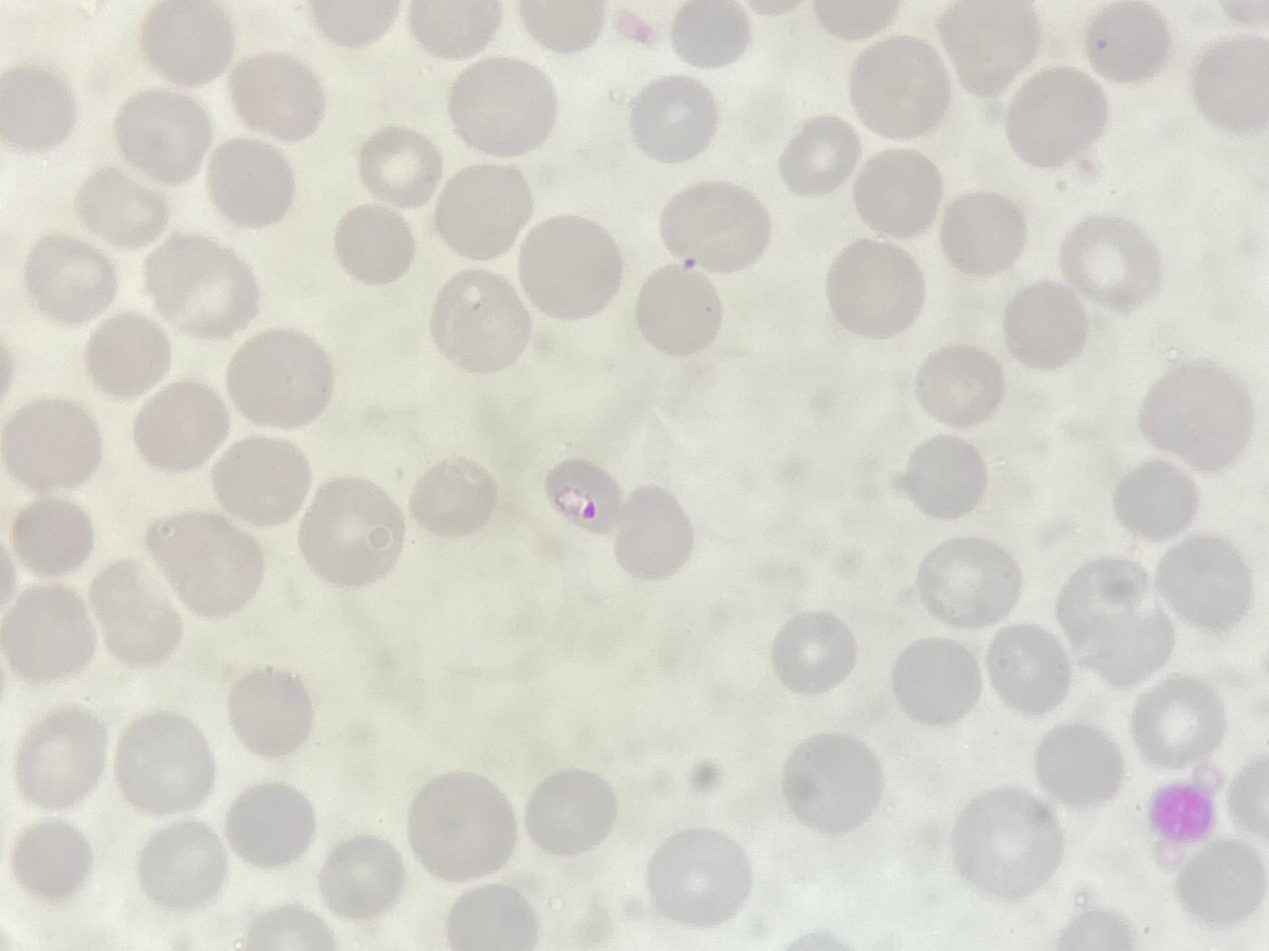Infected: (544, 459, 622, 535)
Uninfected: (1056, 556, 1170, 679), (143, 509, 266, 619), (1135, 360, 1252, 472), (143, 231, 260, 339), (948, 788, 1061, 897), (406, 772, 518, 880), (296, 478, 404, 588), (447, 57, 557, 157), (518, 214, 622, 316), (225, 328, 332, 427), (430, 269, 533, 371), (114, 712, 217, 813), (849, 38, 952, 139), (645, 828, 751, 926), (660, 178, 771, 271), (780, 732, 882, 833), (431, 161, 535, 260), (1005, 68, 1107, 167), (1059, 213, 1162, 311), (824, 239, 925, 338), (1151, 531, 1250, 631), (88, 560, 183, 664), (14, 708, 110, 810), (2, 396, 104, 492), (1, 583, 98, 683), (131, 379, 233, 472), (114, 88, 214, 182), (915, 535, 1017, 627), (211, 434, 314, 524), (935, 1, 1036, 92), (204, 135, 300, 227), (1132, 675, 1228, 765), (24, 235, 120, 325), (228, 52, 327, 139), (634, 263, 726, 356), (851, 149, 946, 239), (223, 780, 319, 868), (523, 769, 617, 858), (889, 636, 983, 724), (136, 819, 228, 908), (612, 483, 692, 584), (84, 311, 175, 399), (226, 667, 313, 759), (899, 434, 993, 519), (627, 75, 718, 162), (77, 164, 171, 247), (1033, 720, 1122, 807), (913, 343, 1006, 426), (141, 1, 237, 81), (9, 492, 100, 576), (1174, 839, 1264, 923), (939, 190, 1027, 275), (985, 623, 1069, 712), (1003, 280, 1089, 366), (1190, 36, 1266, 131), (409, 458, 497, 539), (11, 815, 95, 899), (318, 837, 404, 919), (1112, 458, 1199, 539), (773, 611, 856, 694), (1083, 2, 1169, 82), (334, 203, 418, 284), (358, 126, 445, 203), (0, 64, 77, 150), (779, 117, 860, 192), (445, 883, 535, 948), (671, 1, 751, 67), (409, 1, 498, 58), (521, 1, 605, 54), (309, 1, 397, 49), (241, 903, 333, 948), (1226, 751, 1269, 840), (1056, 907, 1139, 948)
